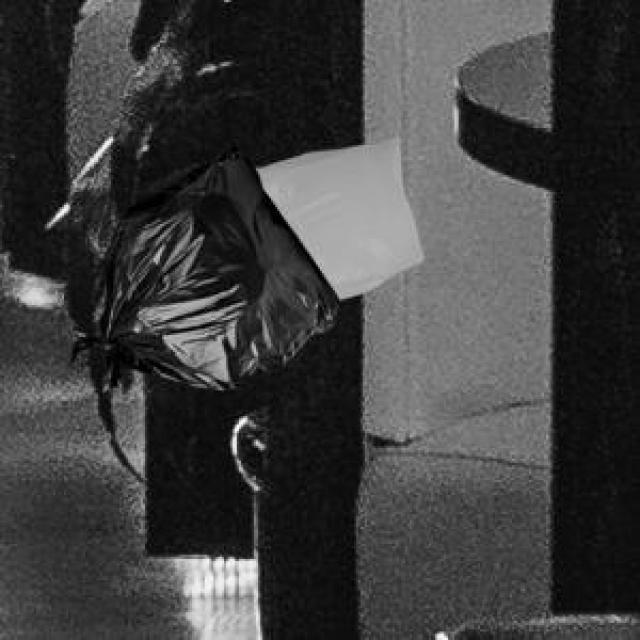miscellaneous trash: (66, 141, 335, 393)
